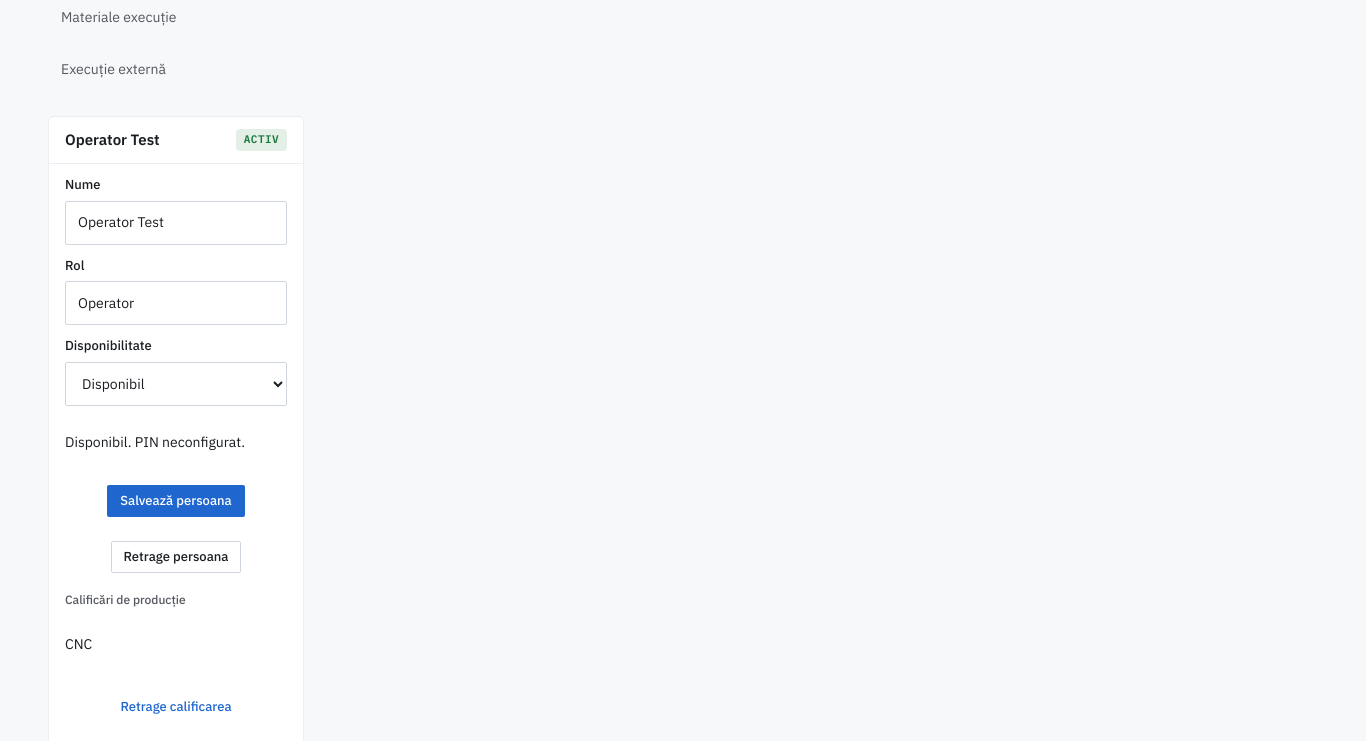
Test: PeopleAdminPage › edits availability, retires a safe person, and presents an active-task block
(page scrolled)
Select "Indisponibil temporar" in the dropdown labelled "Disponibilitate" at (176, 384), box [65,362,287,406]
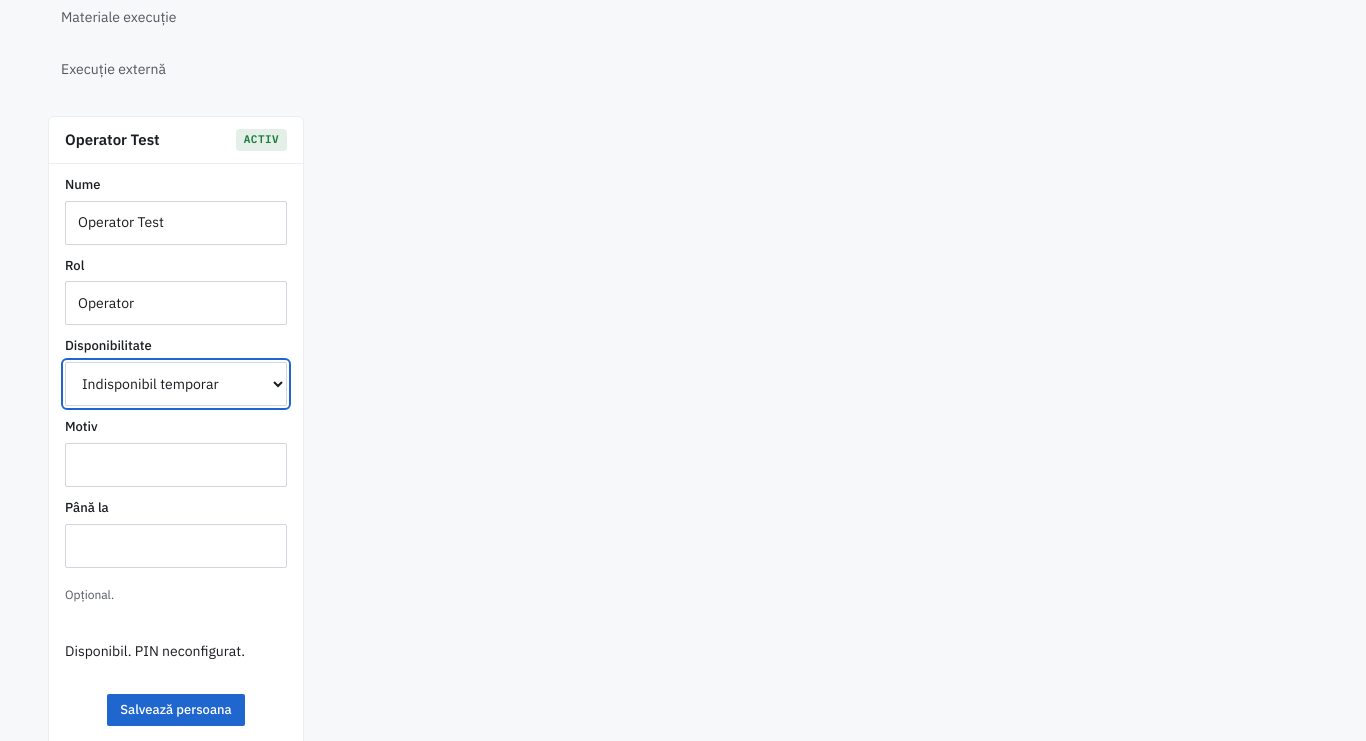
Type "Concediu" into the field labelled "Motiv" at (176, 465), box [65,443,287,487]
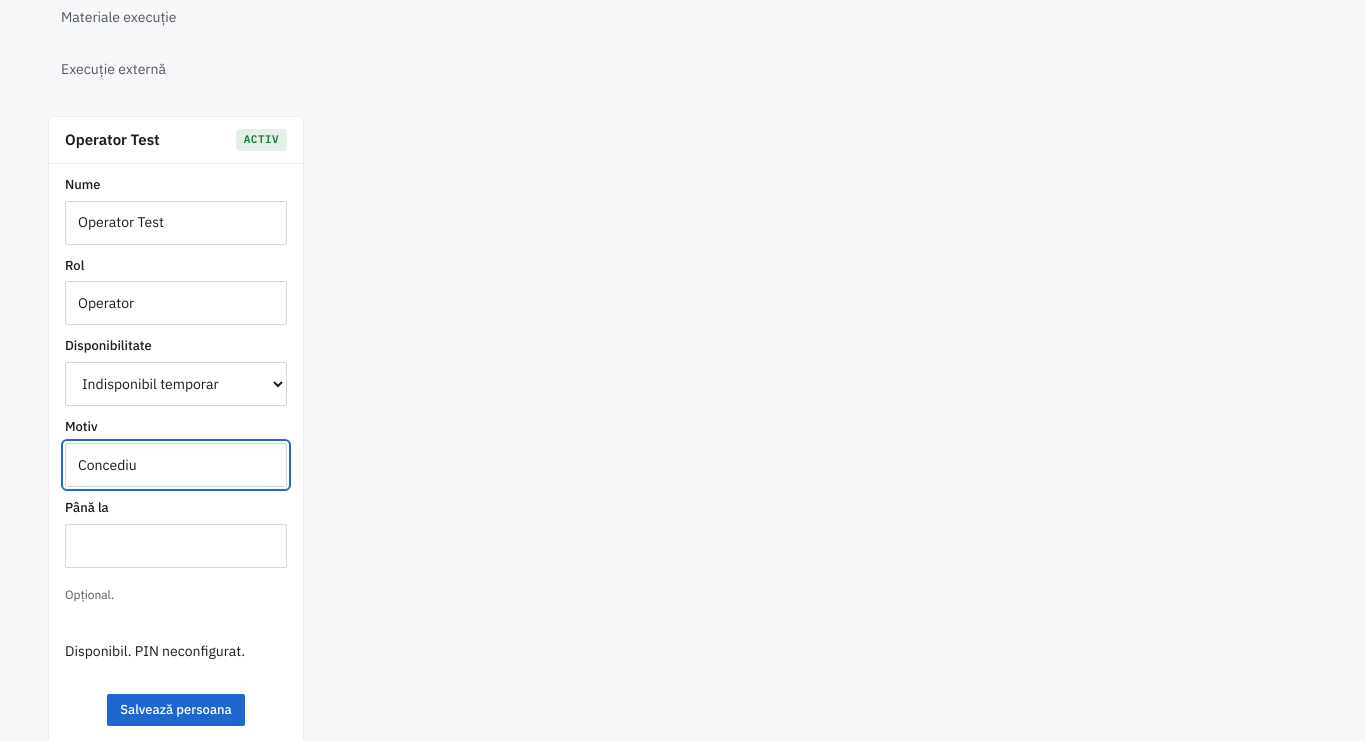
Click the button "Salvează persoana" at (176, 710), box [65,688,287,732]
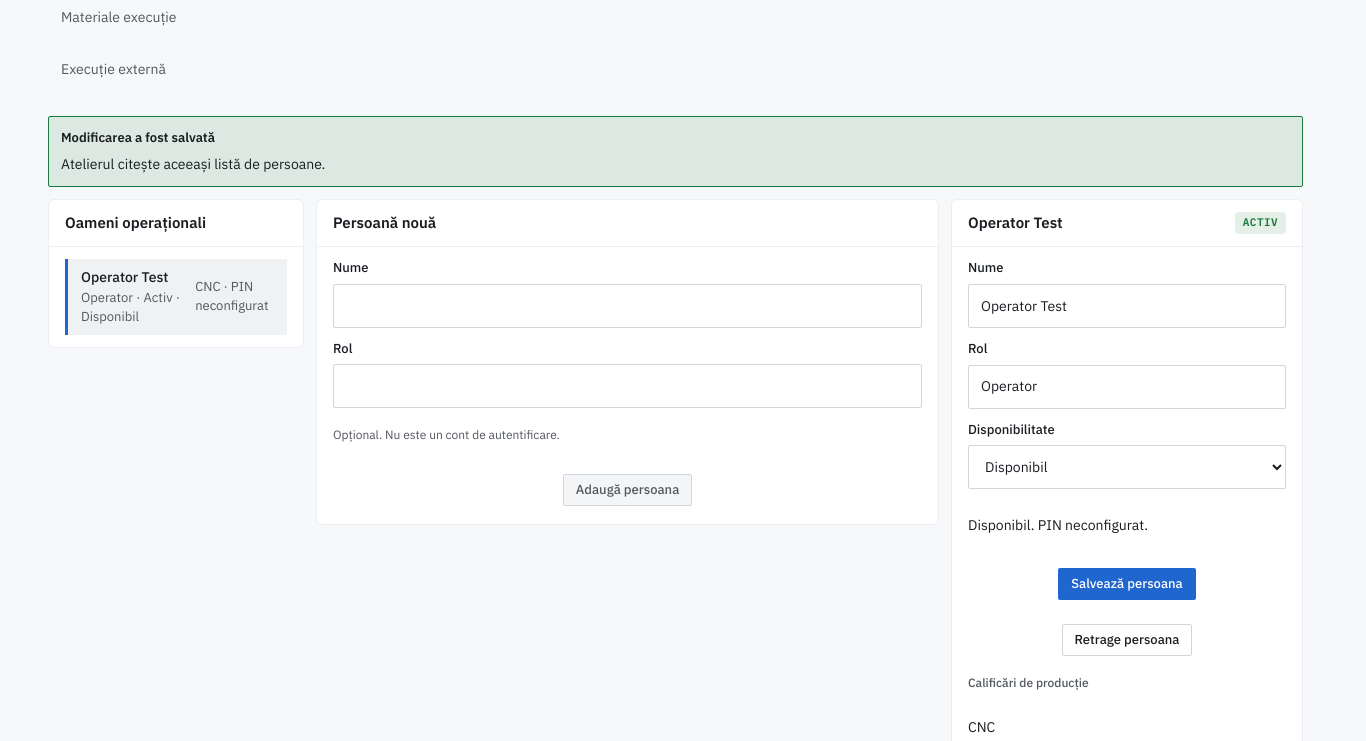
Click the button "Retrage persoana" at (1127, 640), box [968,618,1286,662]
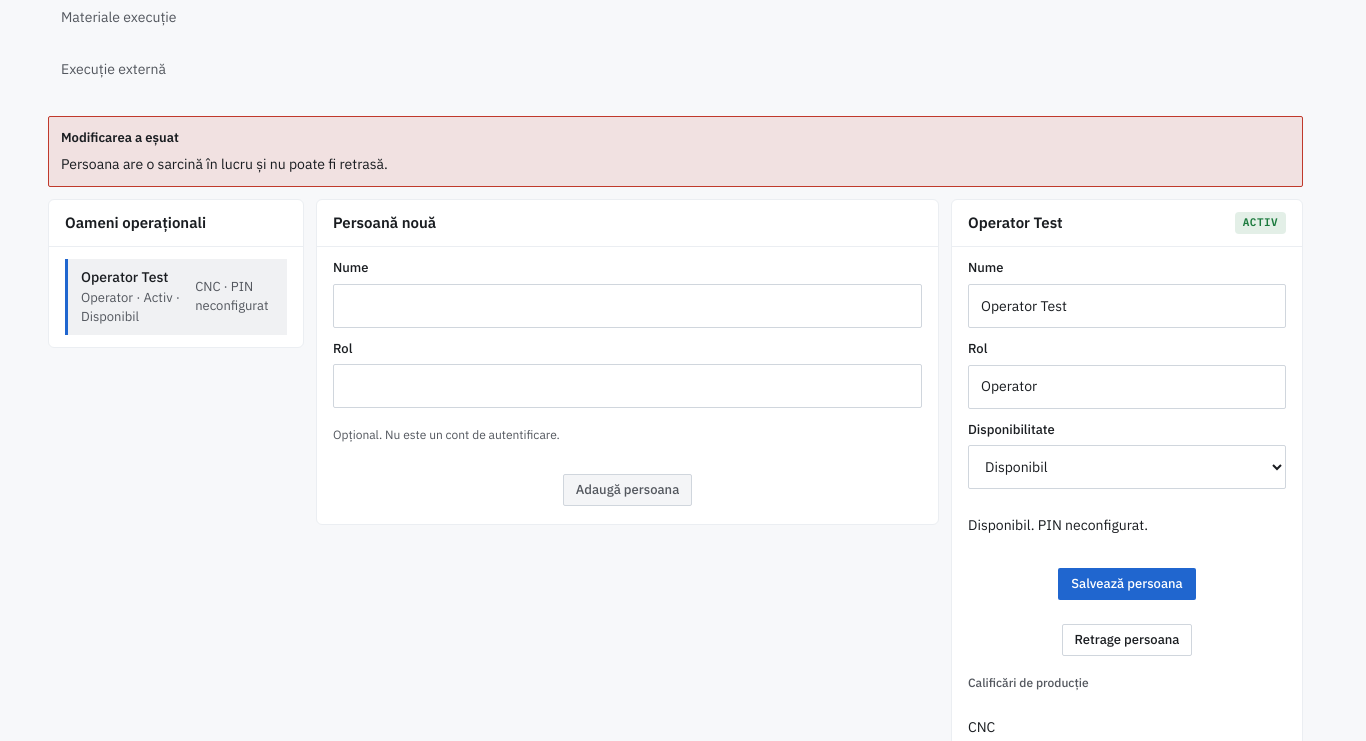
Now the text "Persoana are o sarcină în lucru și nu poate fi retrasă." is shown, box [61,155,388,173]
